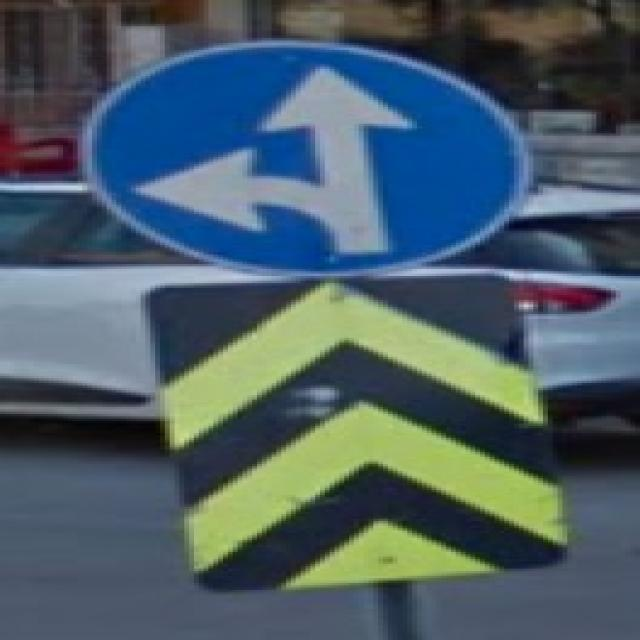Straight or Left: (84, 40, 530, 276)
